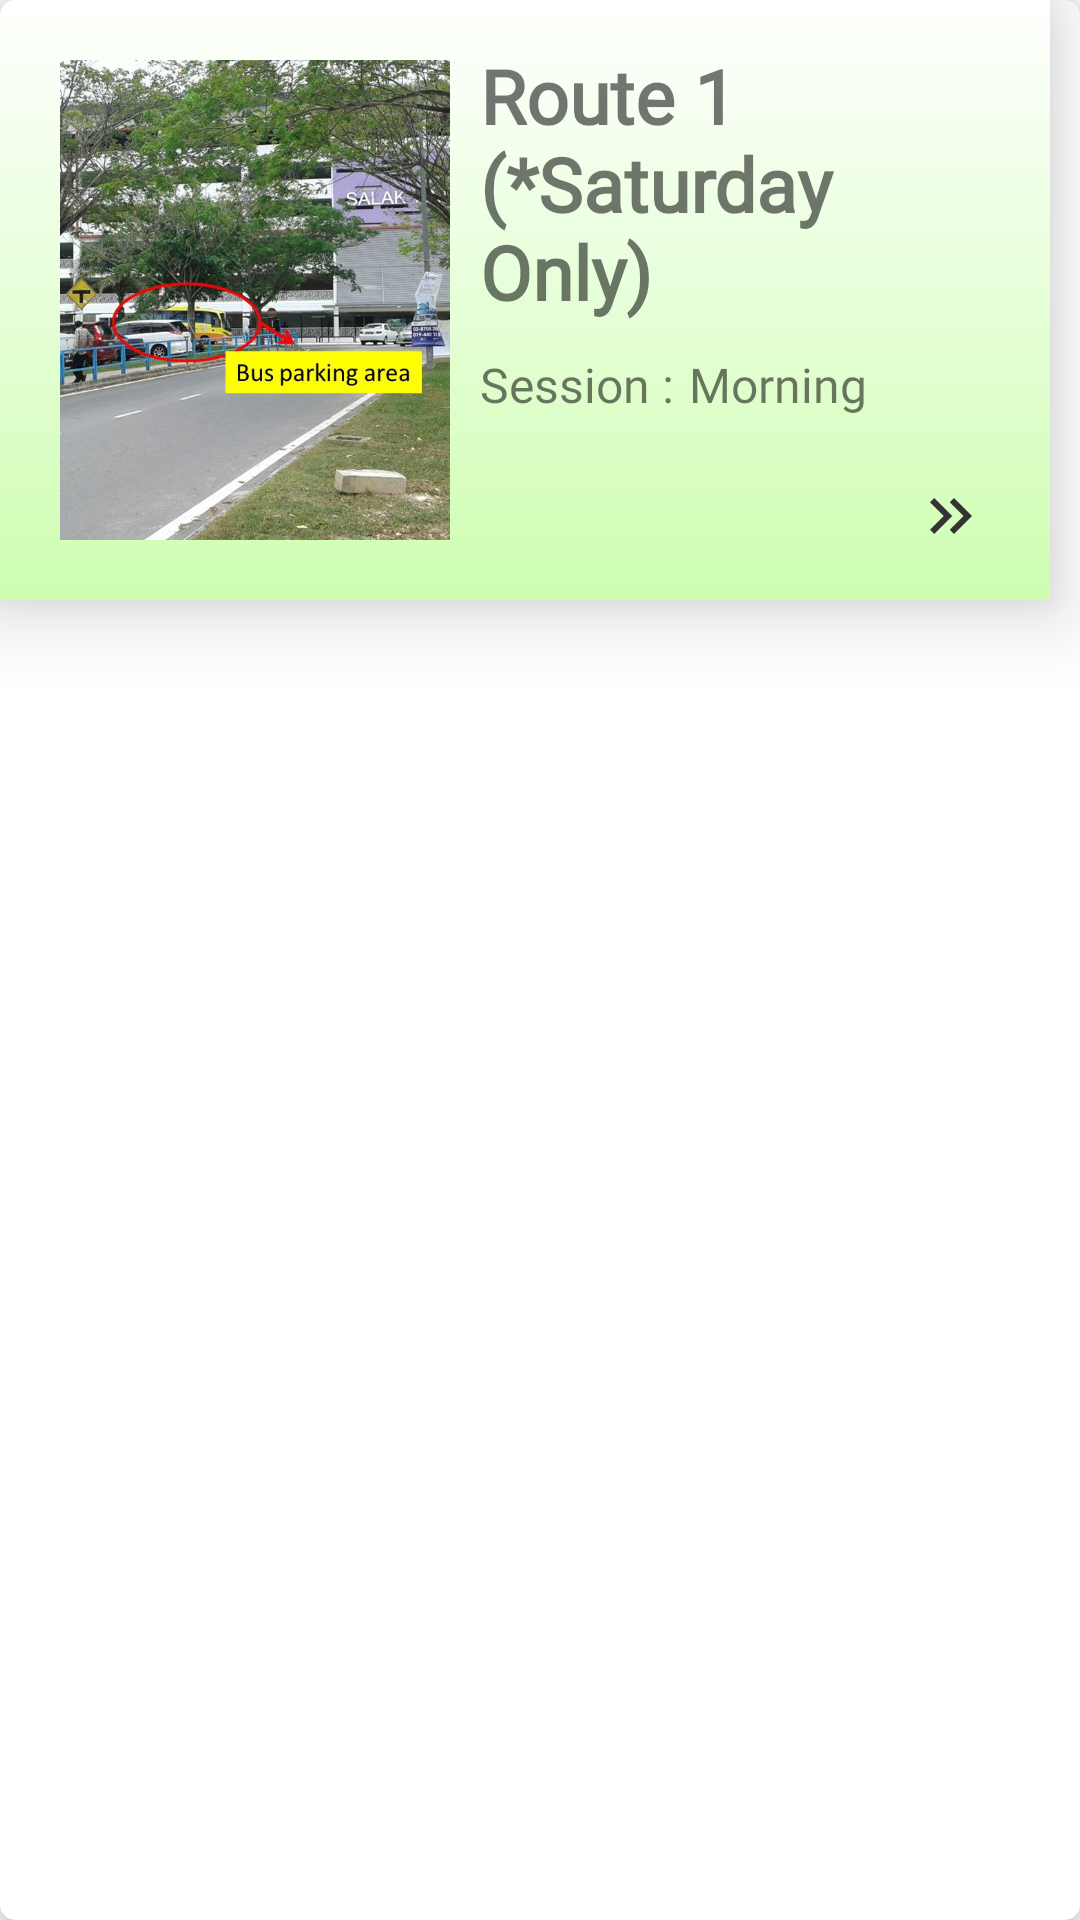

Where icons sit on this 1080*1920 app screen, as rect(x1, y1, x2, y2):
keyboard double arrow right: rect(930, 498, 972, 534)
